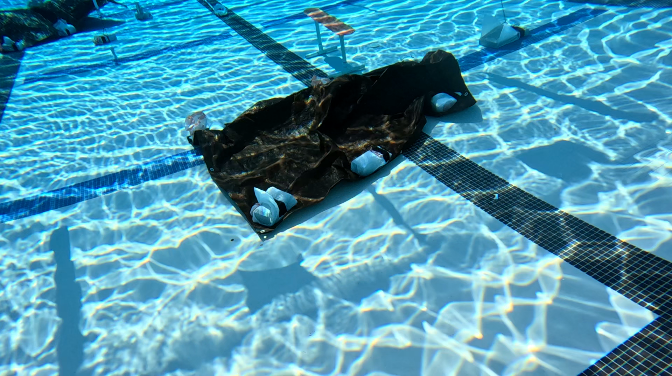pathmarker: (304, 6, 355, 34)
sandbag: (182, 49, 476, 235)
